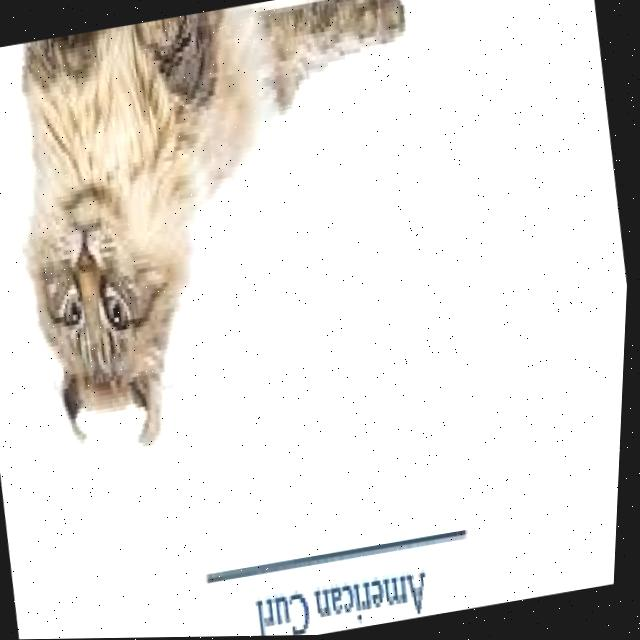American Curl: (0, 0, 473, 478)
